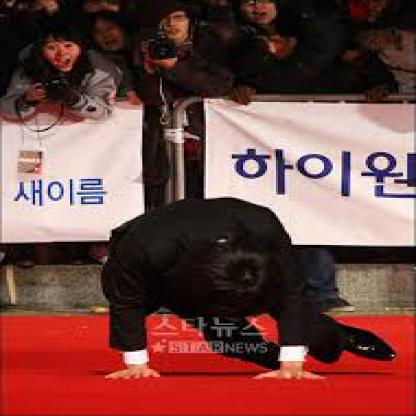Fall_Down: (96, 194, 401, 383)
